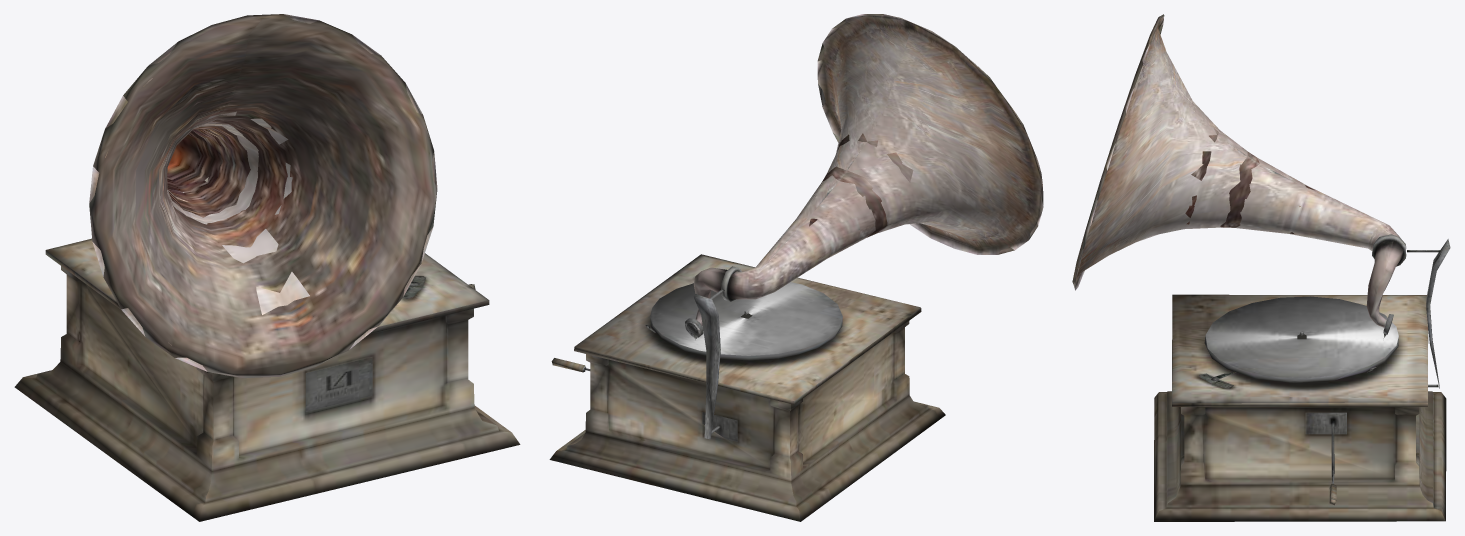
The model's file is Gramophone01-model.fbx.
The picture shows the model from 3 angles, left to right: view 1: azimuth 30°, elevation 25°; view 2: azimuth 150°, elevation 25°; view 3: azimuth 270°, elevation 25°; orthographic projection. The views are drawn at different scales.
Visible parts, largest first — view 1: Old_gramophone_Disc_Bone; view 2: Old_gramophone_Disc_Bone; view 3: Old_gramophone_Disc_Bone.
Part boxes in pixels (x1,y1,x2,y2): Old_gramophone_Disc_Bone: [14, 14, 520, 521]; Old_gramophone_Disc_Bone: [549, 14, 1043, 521]; Old_gramophone_Disc_Bone: [1072, 14, 1450, 521].
Bounding box in the file's own units: 5.24 × 4.92 × 4.33.
Materials: 1 (1 with a texture image).
